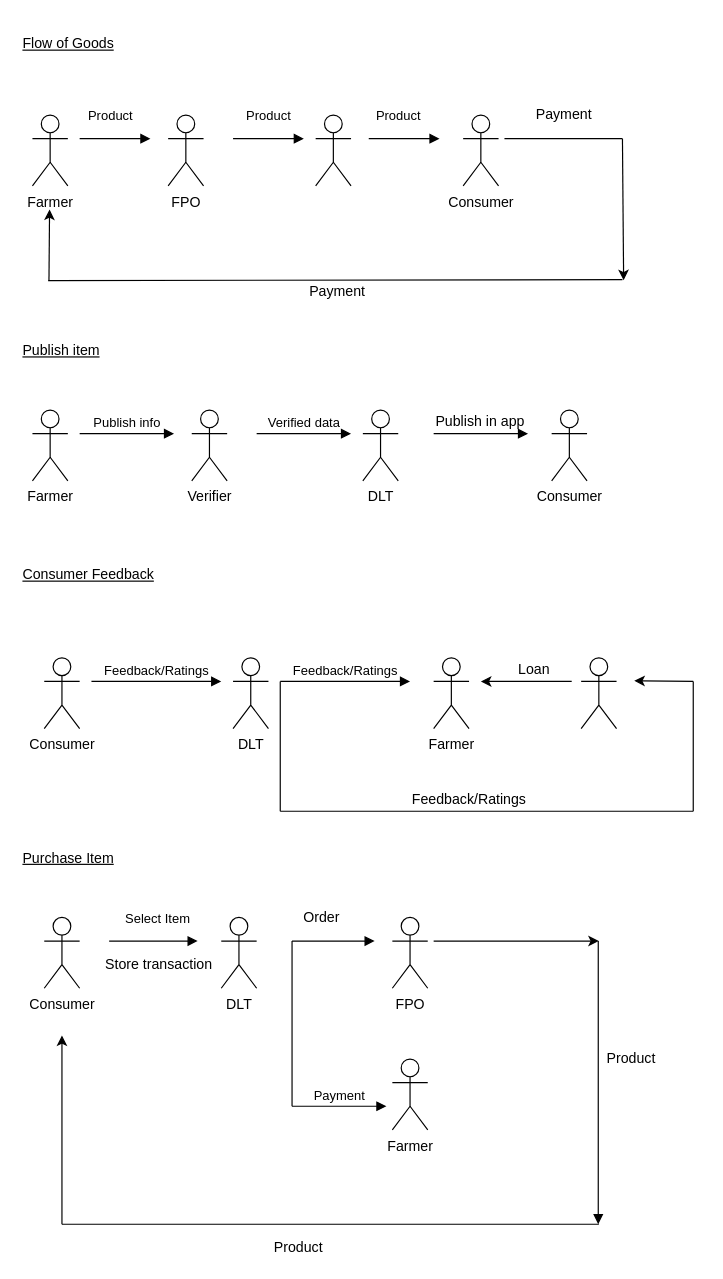
The diagram is 723 pixels wide and 1279 high, and some of its shapes have lost their labels. The box of each missing label's shape, as (x1, y1, x2, y2) in pixels:
Lending Agency: (580, 657, 617, 729)
Marketplace: (314, 114, 351, 186)
